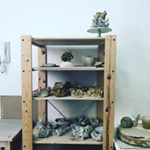cups: (80, 53, 96, 71)
